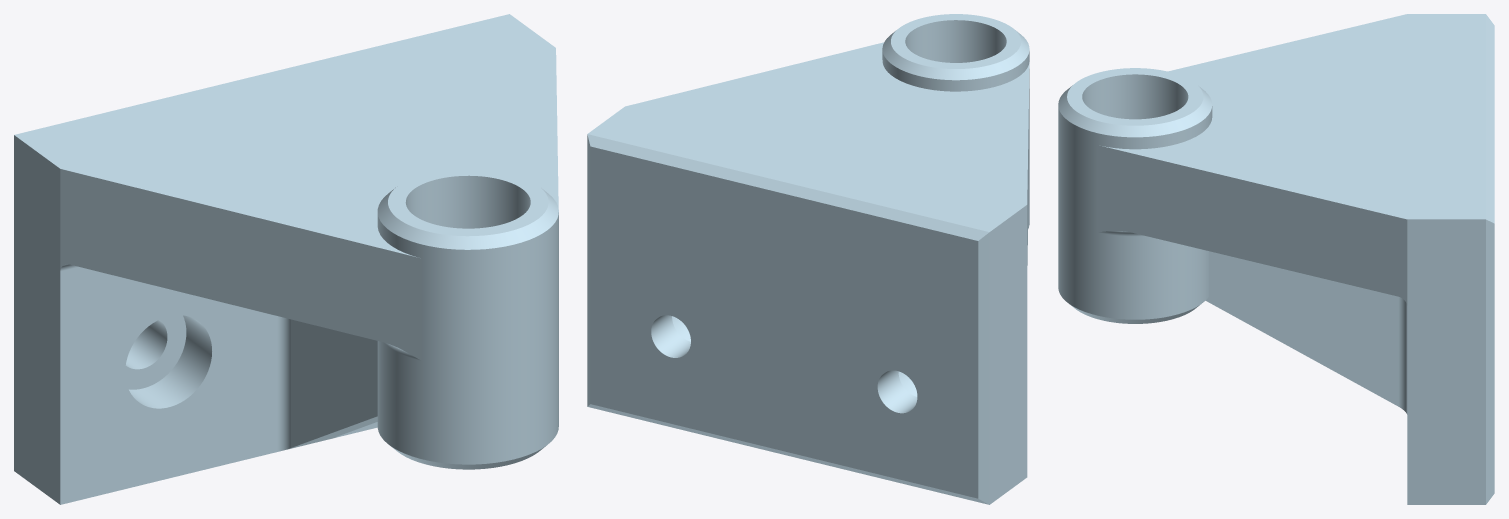
File: Piesa.gltf
The picture shows the model from 3 angles, left to right: view 1: azimuth 30°, elevation 25°; view 2: azimuth 150°, elevation 25°; view 3: azimuth 270°, elevation 25°; orthographic projection. The views are drawn at different scales.
Parts seen in each view (by area): view 1: Part 1; view 2: Part 1; view 3: Part 1.
Boxes of the visible parts, <box> form: Part 1: <box>14,14,558,504</box>; Part 1: <box>587,14,1029,504</box>; Part 1: <box>1058,14,1494,504</box>.
Size of the model in its own units: 0.0556 by 0.0385 by 0.0499.
